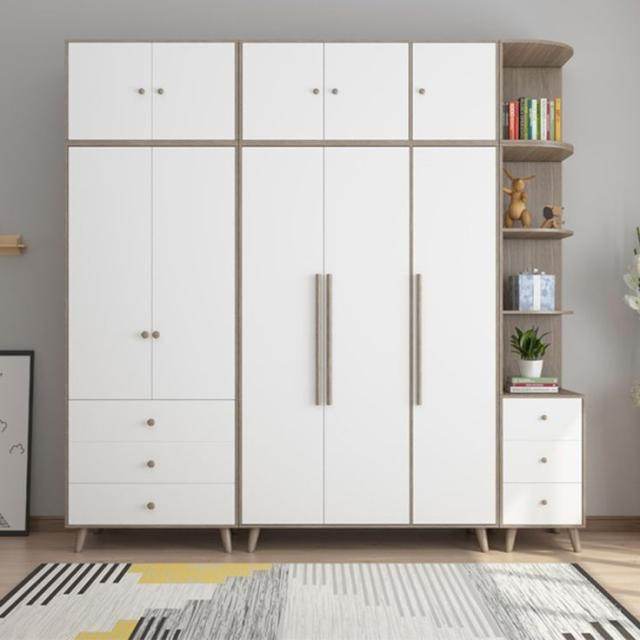door: (238, 142, 411, 528), (74, 148, 235, 404), (412, 147, 498, 526)
obstacle: (67, 45, 501, 147), (66, 402, 234, 524), (506, 398, 587, 522)
